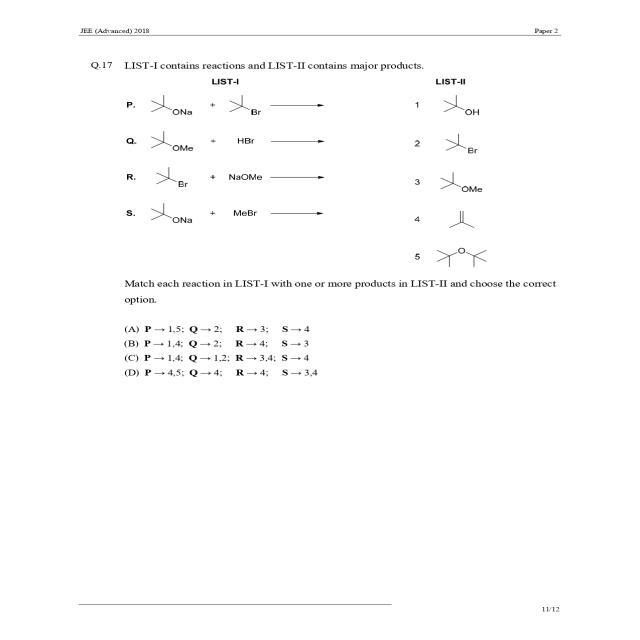Answer_Block: (62, 319, 593, 441)
Question_Answer_Block: (62, 40, 593, 441)
Question_Block: (62, 40, 593, 313)
Question_Paper_Area: (62, 40, 593, 441)
